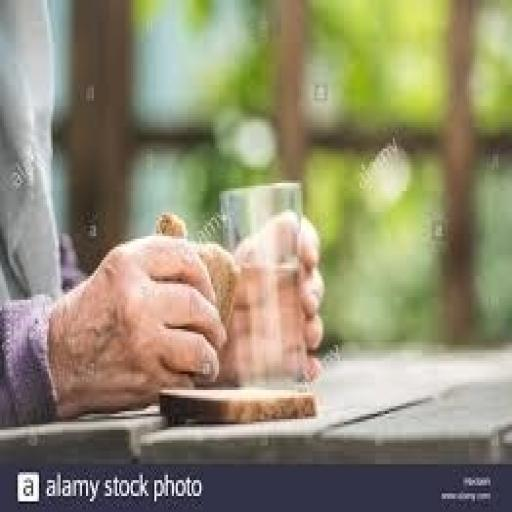drinking: (217, 180, 305, 385)
